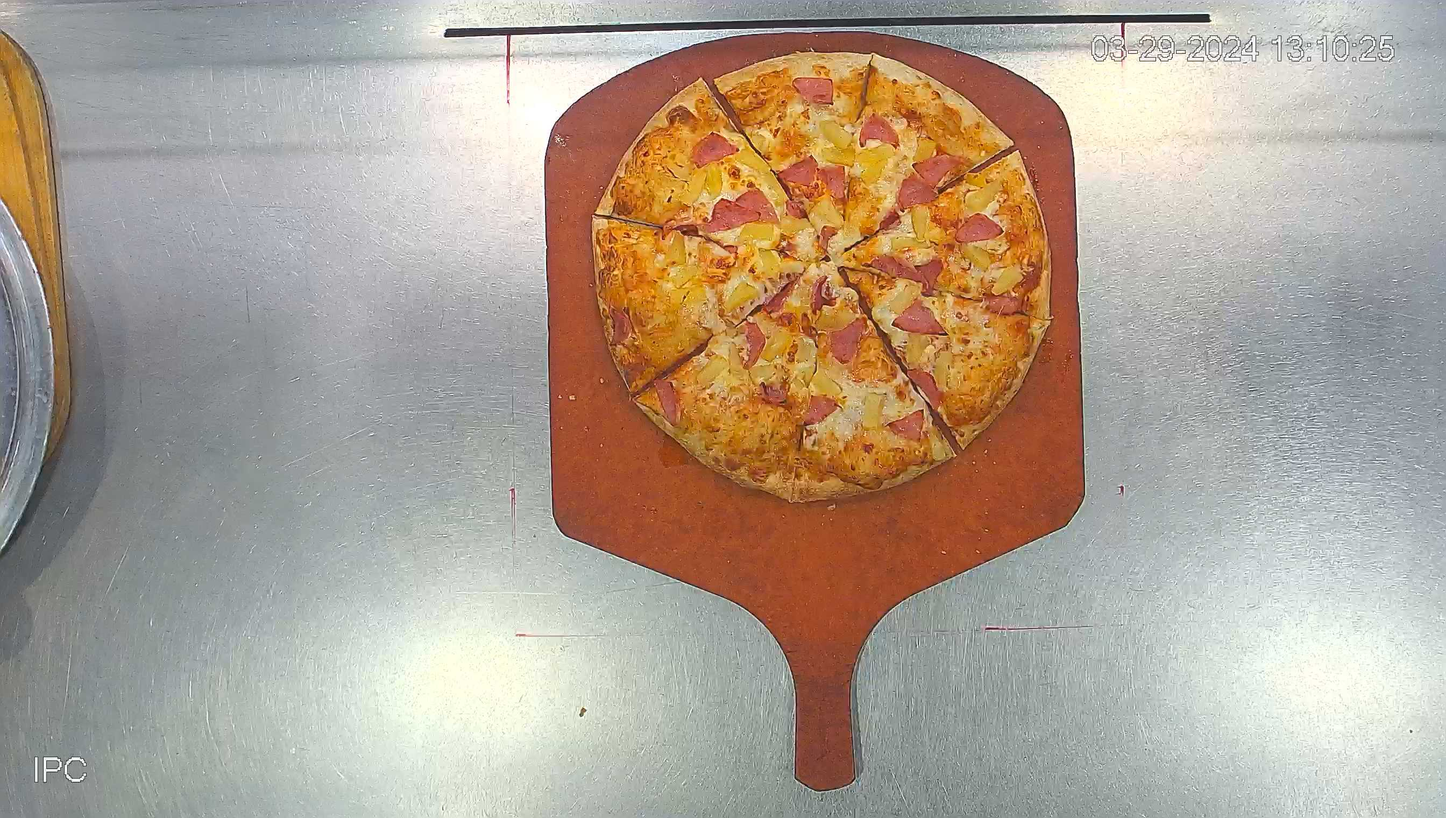manager_choice: (589, 49, 1053, 500)
